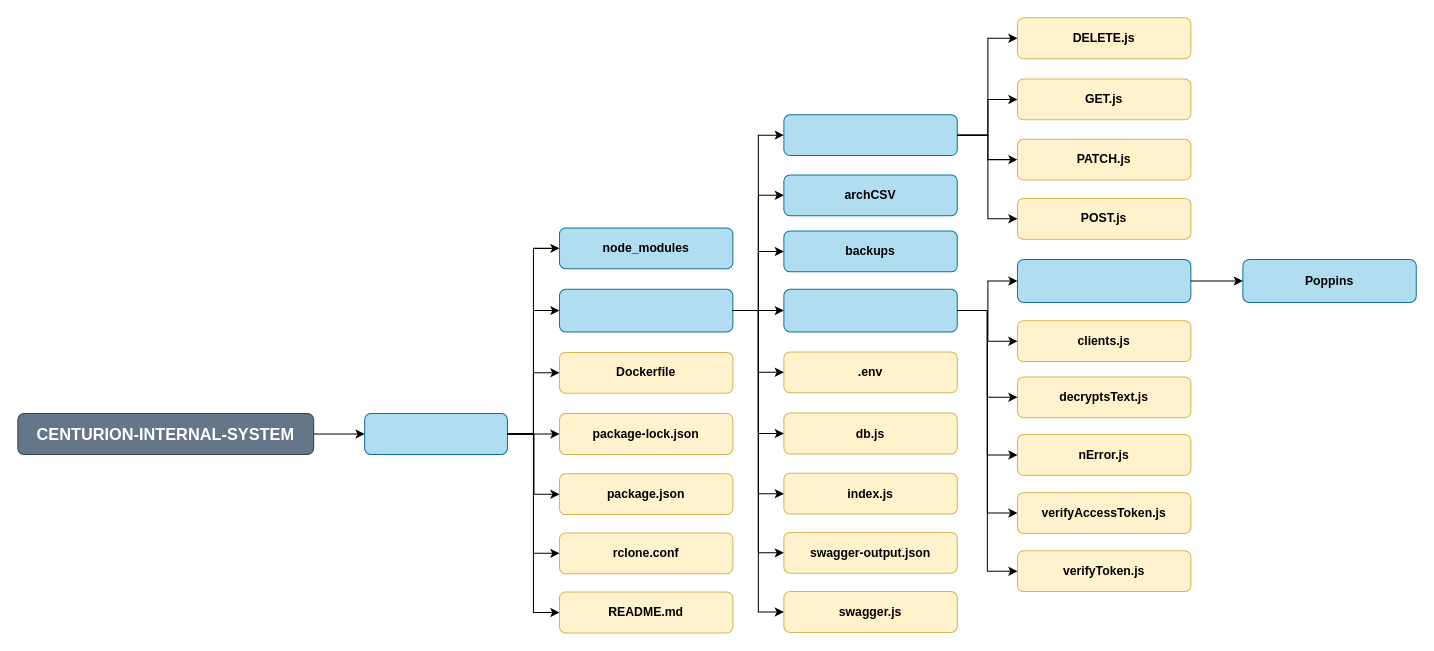
The diagram is 1434 pixels wide and 651 high, and some of its shapes have lost their labels. The centre of each missing label's shape, as x and y in pixels:
apis: point (870, 135)
BACKEND: point (435, 433)
fonts: point (1103, 280)
src: point (645, 310)
utils: point (870, 310)
